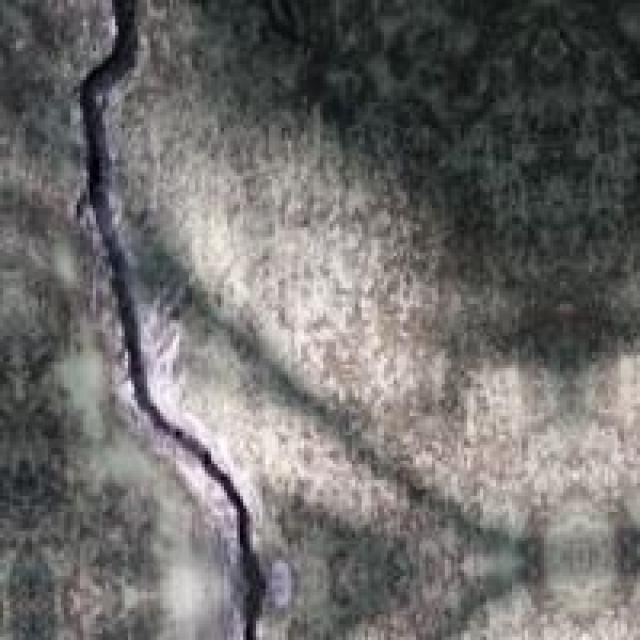crack: (35, 0, 282, 637)
